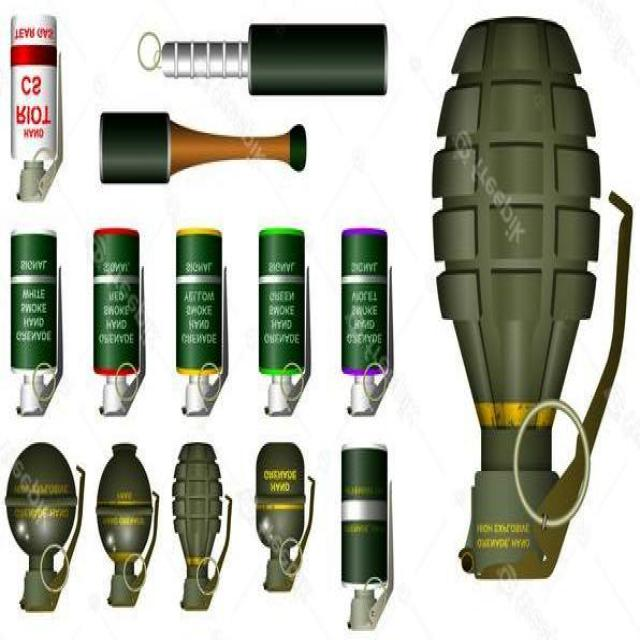grenade: (431, 19, 634, 574), (6, 443, 85, 612), (340, 221, 396, 426), (175, 224, 230, 422), (10, 233, 67, 423), (97, 442, 161, 611), (92, 224, 145, 422), (339, 449, 396, 632), (172, 440, 231, 611), (260, 232, 312, 420), (255, 440, 316, 594)
